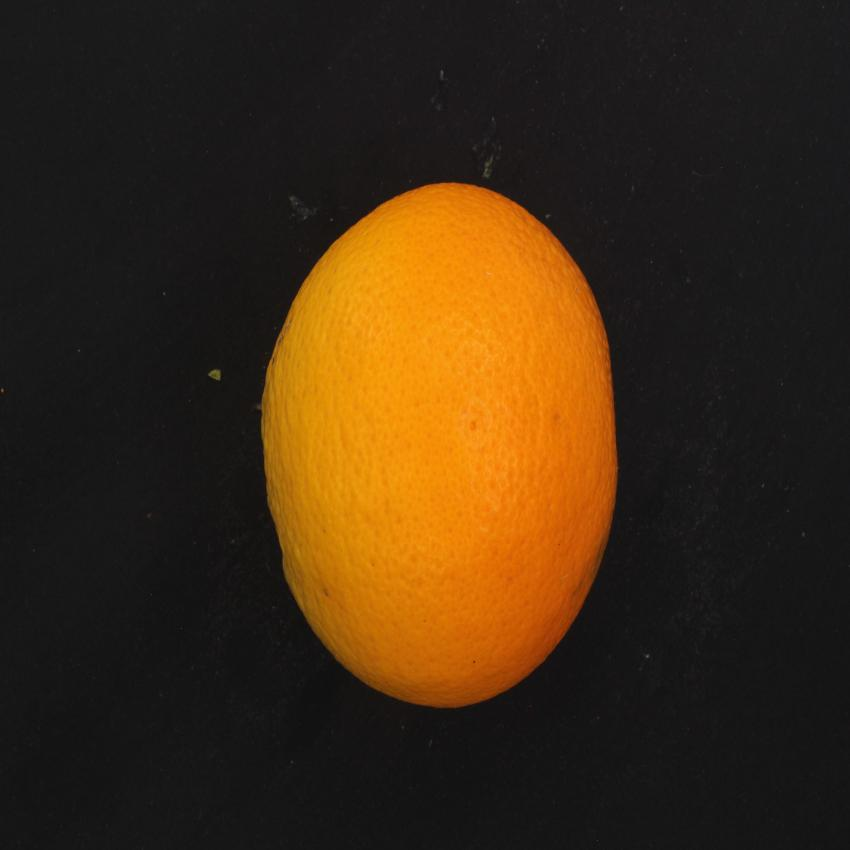Buen estado: (239, 171, 636, 724)
